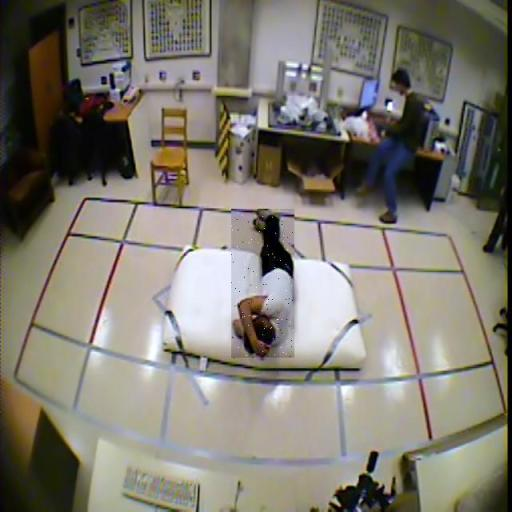Fall: (232, 210, 295, 360)
